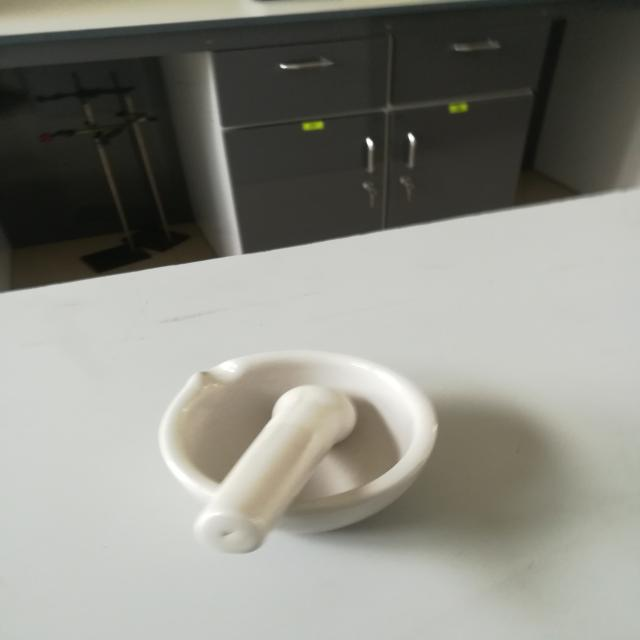Porcelain_Mortar Pestle: (86, 288, 497, 595)
